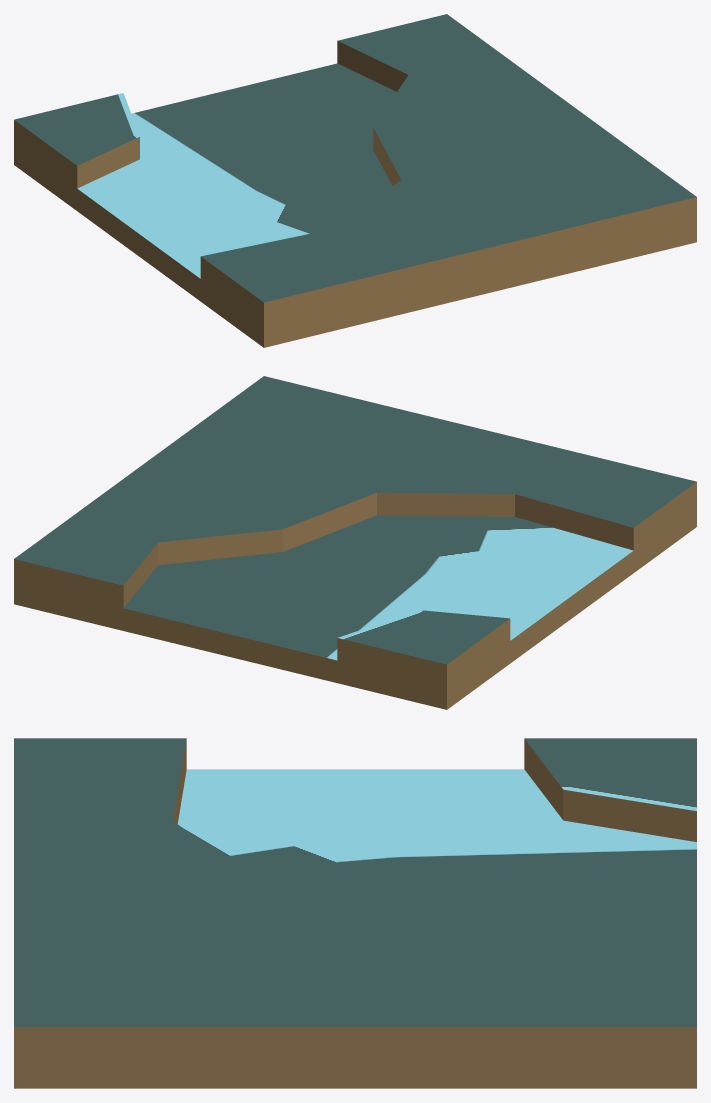
The model's file is Plate_River_Corner_Dirt_01.obj.
The picture shows the model from 3 angles, top to bottom: view 1: azimuth 30°, elevation 25°; view 2: azimuth 150°, elevation 25°; view 3: azimuth 270°, elevation 25°; orthographic projection. The views are drawn at different scales.
Parts seen in each view (by area): view 1: Mesh1 Plate_River_Corner_Dirt Model; view 2: Mesh1 Plate_River_Corner_Dirt Model; view 3: Mesh1 Plate_River_Corner_Dirt Model.
Part boxes in pixels (x1=…): Mesh1 Plate_River_Corner_Dirt Model: x1=14, y1=14, x2=696, y2=347; Mesh1 Plate_River_Corner_Dirt Model: x1=14, y1=376, x2=696, y2=709; Mesh1 Plate_River_Corner_Dirt Model: x1=14, y1=738, x2=696, y2=1088.
Size of the model in its own units: 3 by 0.3 by 3.
Materials: 1 (1 with a texture image).
